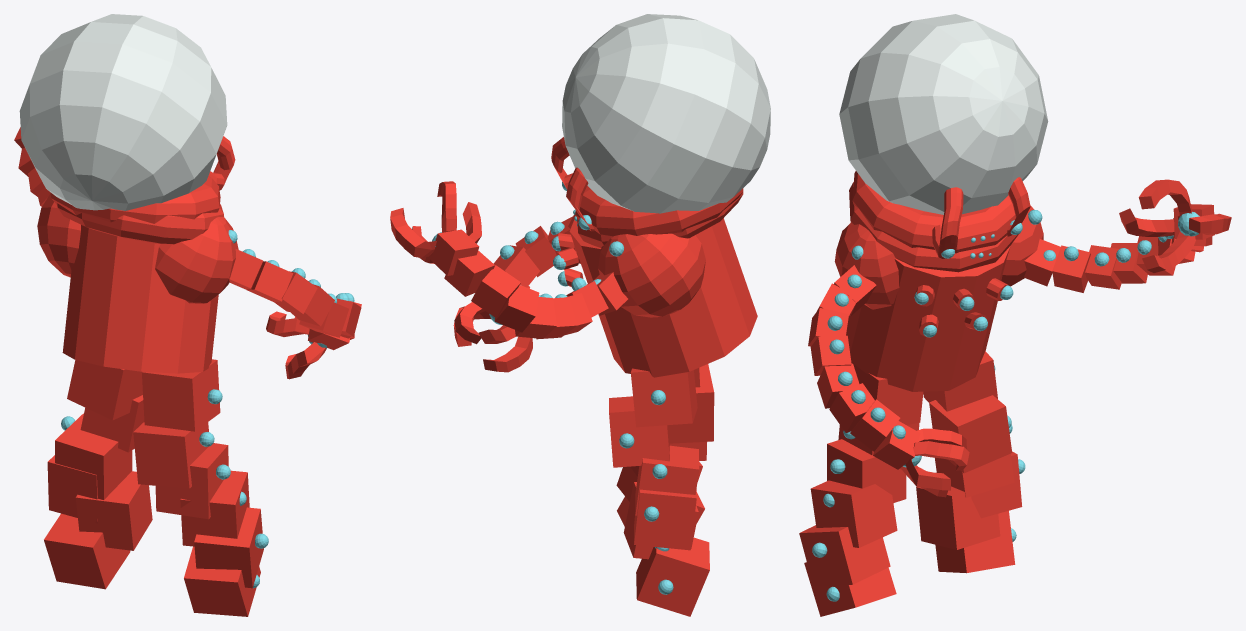
File: Robot2.obj
3 views of the same model, side by side, from view 1: azimuth 30°, elevation 25°; view 2: azimuth 150°, elevation 25°; view 3: azimuth 270°, elevation 25° (orthographic).
Parts seen in each view (by area): view 1: mesh2145435248; view 2: mesh2145435248; view 3: mesh2145435248.
Part boxes in pixels (box(x1,y1,x2,y2)): mesh2145435248: box(14, 14, 361, 616); mesh2145435248: box(390, 14, 770, 616); mesh2145435248: box(799, 14, 1231, 616).
Bounding box in the file's own units: 1.81 × 3.19 × 2.21.
